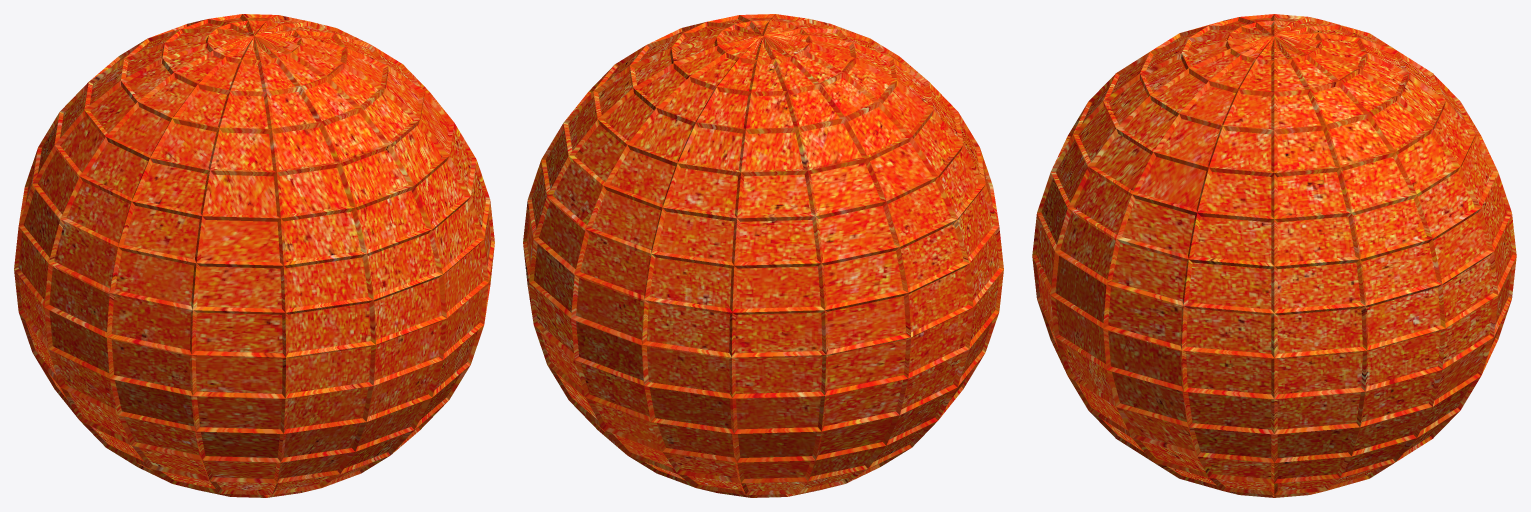
Rendered from fireball.obj.
3 renders of one model, left to right at view 1: azimuth 30°, elevation 25°; view 2: azimuth 150°, elevation 25°; view 3: azimuth 270°, elevation 25°, orthographic.
Parts seen in each view (by area): view 1: Sphere.002; view 2: Sphere.002; view 3: Sphere.002.
Part boxes in pixels (left/top/right/bottom): Sphere.002: left=14, top=14, right=494, bottom=497; Sphere.002: left=523, top=14, right=1003, bottom=497; Sphere.002: left=1032, top=14, right=1516, bottom=497.
Size of the model in its own units: 2.03 by 2.03 by 2.03.
1 material, 1 textured.
